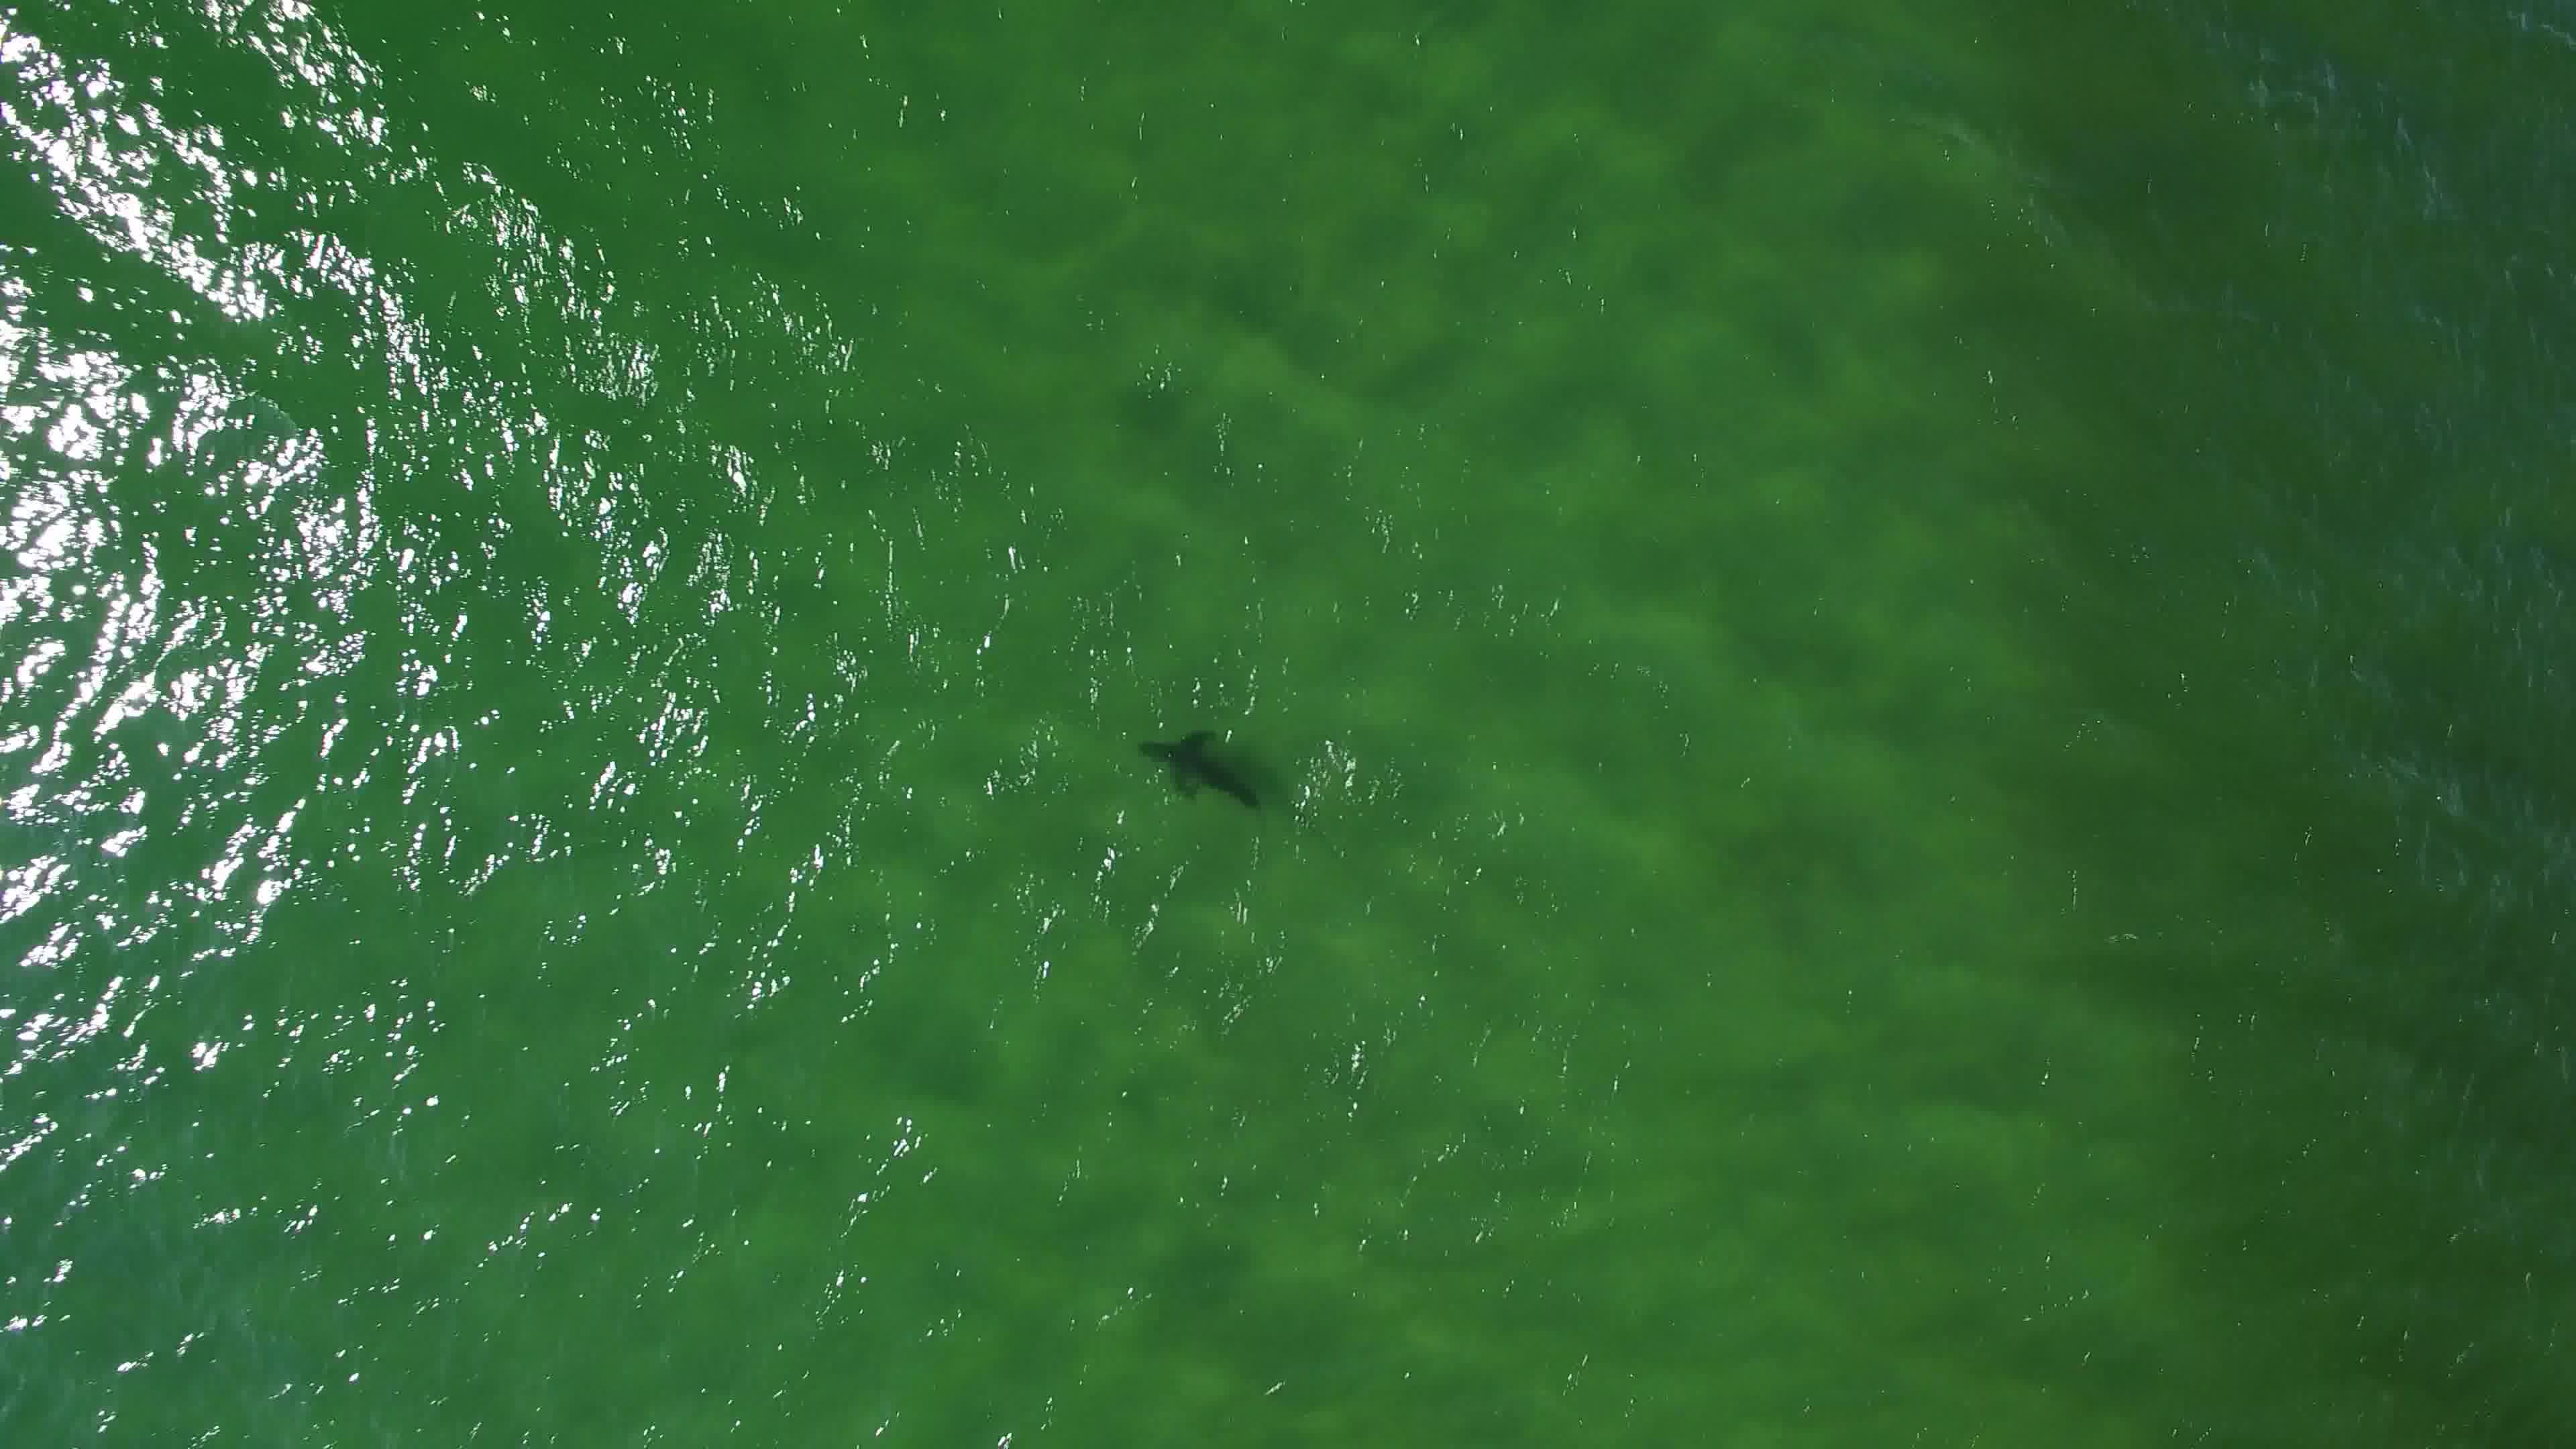shark: (1127, 725, 1274, 819)
